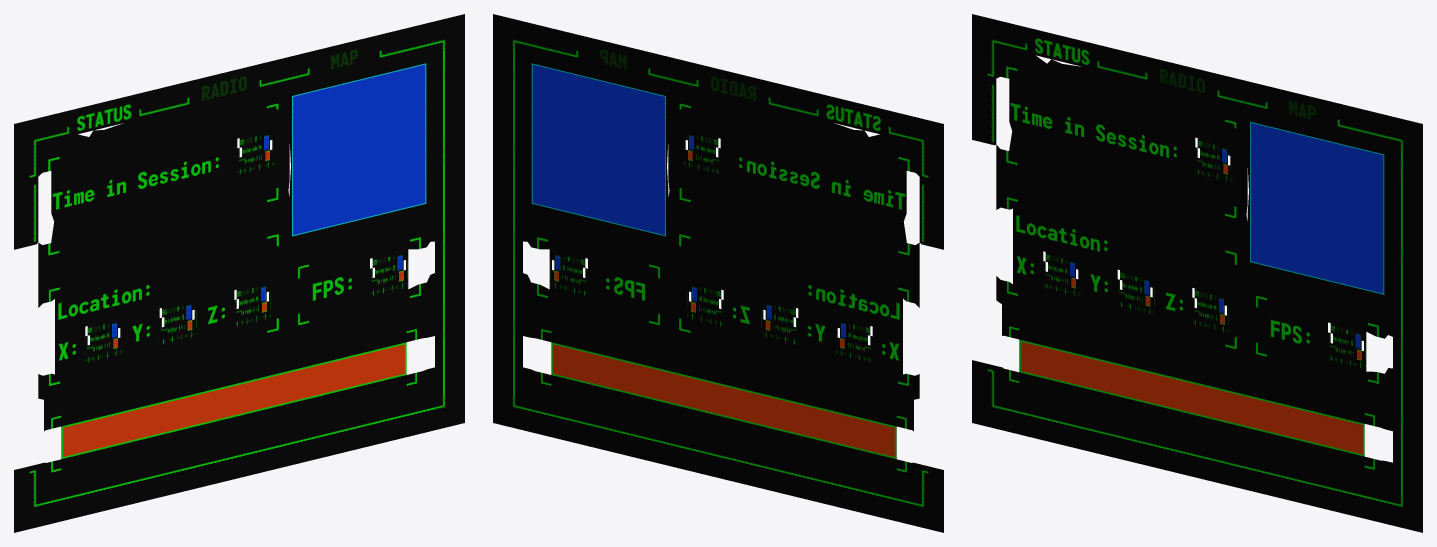
The model's file is screen.fbx.
3 views of the same model, side by side, from view 1: azimuth 30°, elevation 25°; view 2: azimuth 150°, elevation 25°; view 3: azimuth 330°, elevation 25° (orthographic).
Parts seen in each view (by area): view 1: PipBoy.001; view 2: PipBoy.001; view 3: PipBoy.001.
Boxes of the visible parts, bbox=[...] form: PipBoy.001: bbox=[14, 14, 464, 532]; PipBoy.001: bbox=[493, 14, 943, 532]; PipBoy.001: bbox=[972, 14, 1422, 532].
Bounding box in the file's own units: 12.3 × 10.66 × 9.03e-05.
